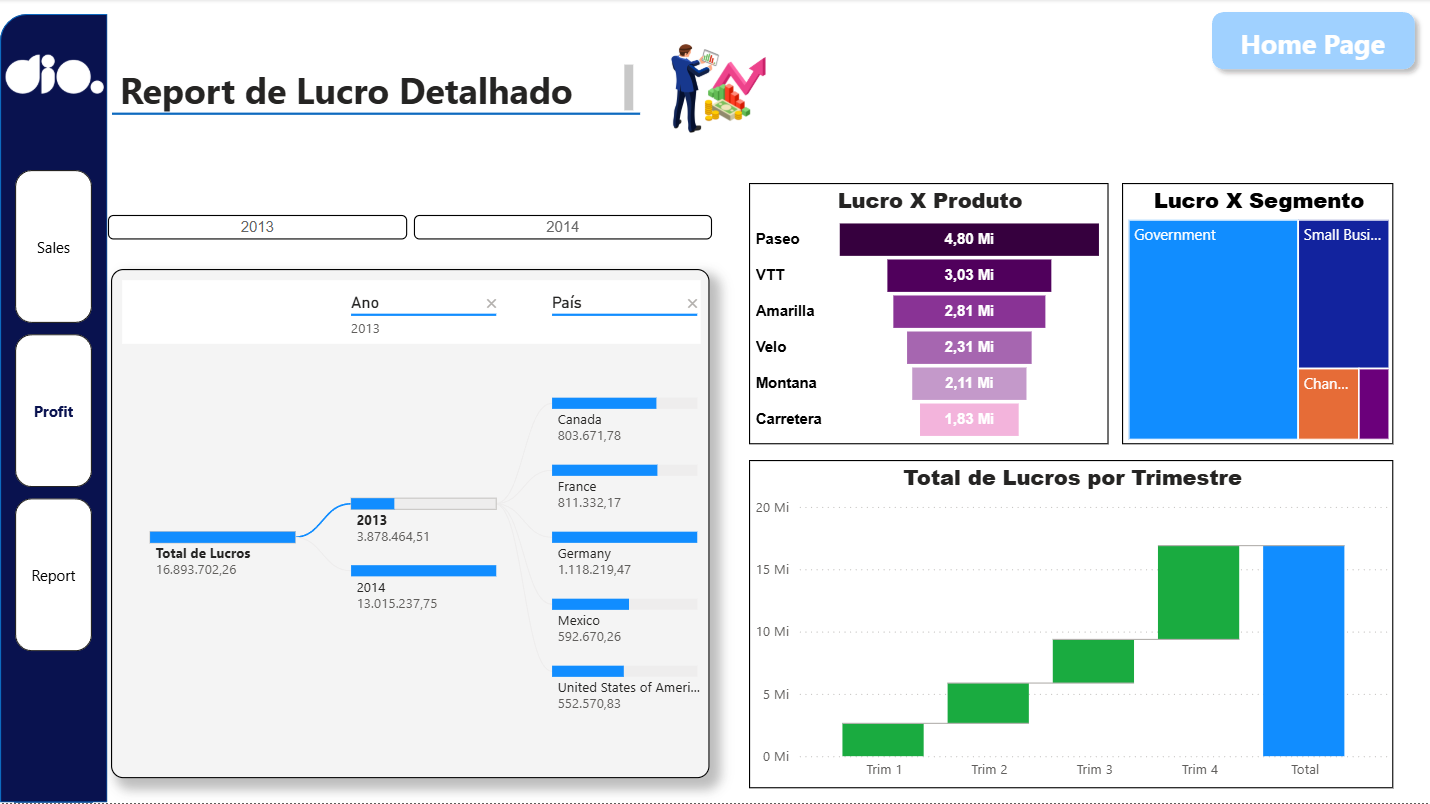

The page's visual inventory and layout, read from the dashboard file:
{"tool":"powerbi","page":{"name":"Profit","canvas":[1280,720],"ordinal":1},"visuals":[{"type":"actionButton","title":"Home Page","box":[1076.7,2.9,199.6,69.2],"z":0,"group":"g2"},{"type":"shape","box":[0,13.9,96.4,706.2],"z":0,"group":"g3"},{"type":"shape","box":[12.8,20.6,70.7,699.4],"z":0},{"type":"shape","box":[100.2,84.2,473,37.1],"z":0,"group":"g1"},{"type":"textbox","box":[1088.9,17.7,173,42.6],"z":1000,"group":"g2"},{"type":"shape","box":[12.8,20.6,70.7,62.9],"z":1000},{"type":"image","title":"logo_dio","box":[0,36.2,98.2,63.2],"z":1000,"group":"g3"},{"type":"textbox","box":[101.6,54,470.2,52.2],"z":1000,"group":"g1"},{"type":"image","box":[577.6,21.7,155.2,116.9],"z":2000,"group":"g3"},{"type":"image","box":[13.8,33.4,58,39.3],"z":2000},{"type":"shape","title":"Fundo do Título","box":[84.5,20.6,1185.7,61.9],"z":3000},{"type":"textbox","title":"Título do report","box":[83.9,22,378.1,63.2],"z":4000},{"type":"shape","box":[79.7,233.7,576.1,473],"z":5000},{"type":"decompositionTreeVisual","fields":{"Analyze":["Sum(financials.Profit)"],"ExplainBy":["financials.Date.Variation.Hierarquia de datas.Ano","financials.Country"]},"box":[99.8,242.2,536.3,456.5],"z":6000},{"type":"waterfallChart","title":"Total de Lucros por Trimestre","fields":{"Category":["financials.Date.Variation.Hierarquia de datas.Trimestre"],"Y":["Sum(financials.Profit)"]},"box":[670.9,412.5,577.4,294.2],"z":7000},{"type":"ChicletSlicer1448559807354","fields":{"Category":["financials.Date.Variation.Hierarquia de datas.Ano"]},"box":[88.4,185.7,557,48.1],"z":8000},{"type":"treemap","title":"Lucro X Segmento","fields":{"Values":["Sum(financials.Profit)"],"Group":["financials.Segment"]},"box":[1005,165,243.4,233.7],"z":9000},{"type":"group","id":"g1","title":"Sales report","box":[100.2,54,472.5,66.8],"z":10000},{"type":"actionButton","box":[15.9,622.4,54,96.9],"z":11000},{"type":"group","id":"g2","title":"Botão home","box":[1076.7,2.9,199.4,68.8],"z":12000},{"type":"funnel","title":"Lucro X Produto","fields":{"Category":["financials.Product"],"Y":["Sum(financials.Profit)"]},"box":[670.7,164.8,322.4,233.7],"z":13000},{"type":"group","id":"g3","title":"Layout","box":[0,13.9,732.8,706.2],"z":14000},{"type":"pageNavigator","box":[13.8,153.2,69.7,433.2],"z":15000}]}

Visuals, with their boxes in screenshot pixels (x1, y1, x2, y2), scaled from the page's 1280x720 canvas onto the 1430x804 screenshot:
"Home Page" actionButton: pyautogui.locateOnScreen(1203, 3, 1426, 81)
shape: pyautogui.locateOnScreen(0, 16, 108, 803)
shape: pyautogui.locateOnScreen(14, 23, 93, 803)
shape: pyautogui.locateOnScreen(112, 94, 640, 135)
textbox: pyautogui.locateOnScreen(1217, 20, 1410, 67)
shape: pyautogui.locateOnScreen(14, 23, 93, 93)
"logo_dio" image: pyautogui.locateOnScreen(0, 40, 110, 111)
textbox: pyautogui.locateOnScreen(114, 60, 639, 119)
image: pyautogui.locateOnScreen(645, 24, 819, 155)
image: pyautogui.locateOnScreen(15, 37, 80, 81)
"Fundo do Título" shape: pyautogui.locateOnScreen(94, 23, 1419, 92)
"Título do report" textbox: pyautogui.locateOnScreen(94, 25, 516, 95)
shape: pyautogui.locateOnScreen(89, 261, 733, 789)
decompositionTreeVisual - Sum(financials.Profit) x financials.Date.Variation.Hierarquia de datas.Ano: pyautogui.locateOnScreen(111, 270, 711, 780)
"Total de Lucros por Trimestre" waterfallChart: pyautogui.locateOnScreen(750, 461, 1395, 789)
ChicletSlicer1448559807354 - financials.Date.Variation.Hierarquia de datas.Ano: pyautogui.locateOnScreen(99, 207, 721, 261)
"Lucro X Segmento" treemap: pyautogui.locateOnScreen(1123, 184, 1395, 445)
"Sales report" group: pyautogui.locateOnScreen(112, 60, 640, 135)
actionButton: pyautogui.locateOnScreen(18, 695, 78, 803)
"Botão home" group: pyautogui.locateOnScreen(1203, 3, 1426, 80)
"Lucro X Produto" funnel: pyautogui.locateOnScreen(749, 184, 1109, 445)
"Layout" group: pyautogui.locateOnScreen(0, 16, 819, 803)
pageNavigator: pyautogui.locateOnScreen(15, 171, 93, 655)
